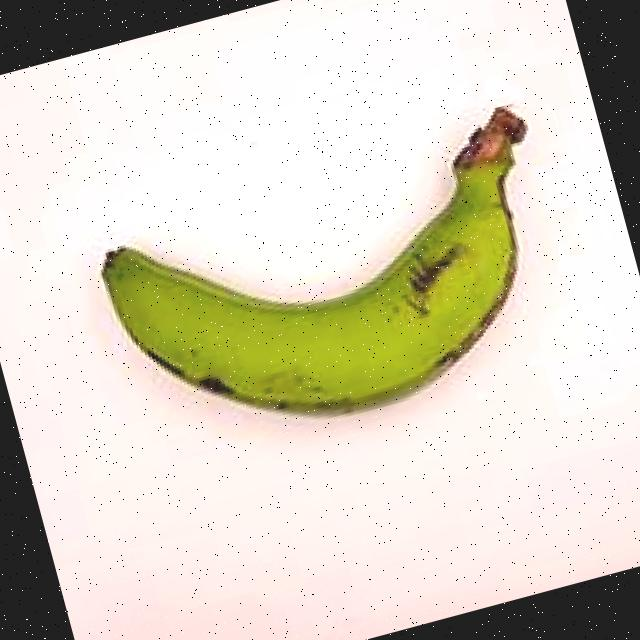Raw: (60, 66, 603, 488)
